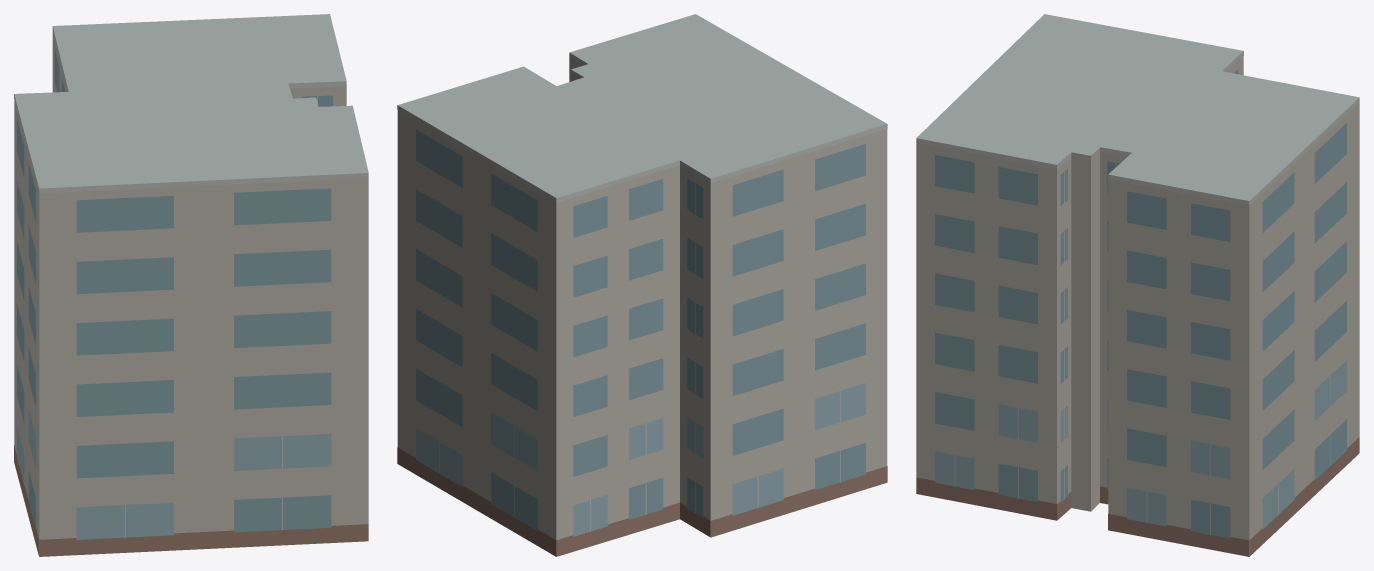
Rendered from survey-upis-32922067.glb.
The picture shows the model from 3 angles, left to right: view 1: azimuth 30°, elevation 25°; view 2: azimuth 150°, elevation 25°; view 3: azimuth 270°, elevation 25°; orthographic projection. The views are drawn at different scales.
Parts seen in each view (by area): view 1: survey-upis-32922067.tmp; view 2: survey-upis-32922067.tmp; view 3: survey-upis-32922067.tmp.
Part boxes in pixels (box(x1,y1,x2,y2)): survey-upis-32922067.tmp: box(14, 14, 368, 556); survey-upis-32922067.tmp: box(397, 14, 887, 556); survey-upis-32922067.tmp: box(916, 14, 1359, 556).
Bounding box in the file's own units: 20.87 × 18.5 × 20.91.
